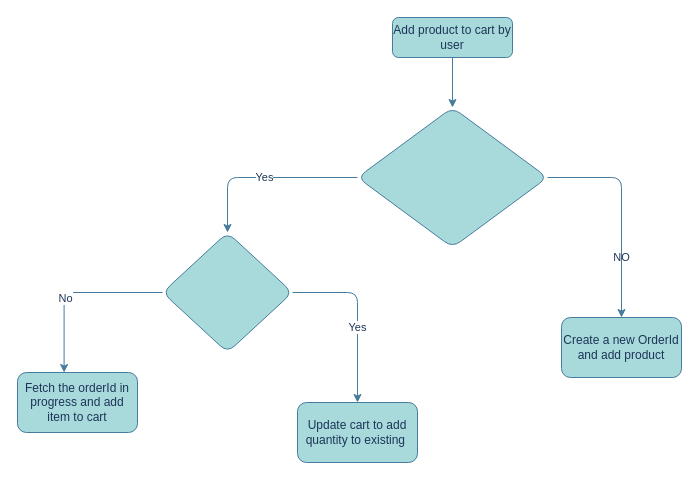
This 699x480 diagram has some shape labels left out. Each missing label, with the centre of its shape:
Check if cart has user in InProgress: pixel 452 177
Check if the same product exists inpending: pixel 227 292
